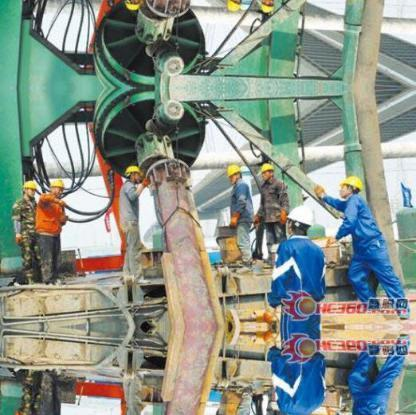helmet: (287, 205, 316, 229), (336, 175, 366, 197), (48, 176, 68, 188), (260, 162, 276, 176), (127, 163, 143, 177), (226, 164, 241, 178), (22, 180, 37, 192)
